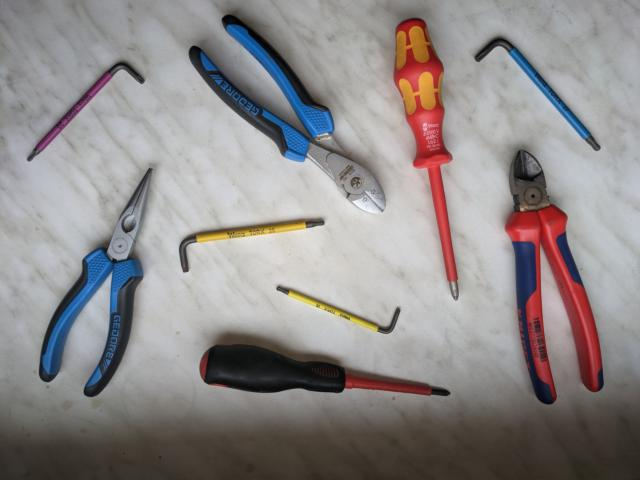Inbusschlüssel: (472, 33, 604, 155), (25, 60, 146, 164), (175, 215, 328, 276), (272, 281, 404, 339)
Schraubendreher: (390, 15, 463, 304), (196, 339, 454, 402)
Seitenschneider: (187, 12, 389, 218), (501, 147, 608, 407)
Zange: (36, 163, 158, 400)
